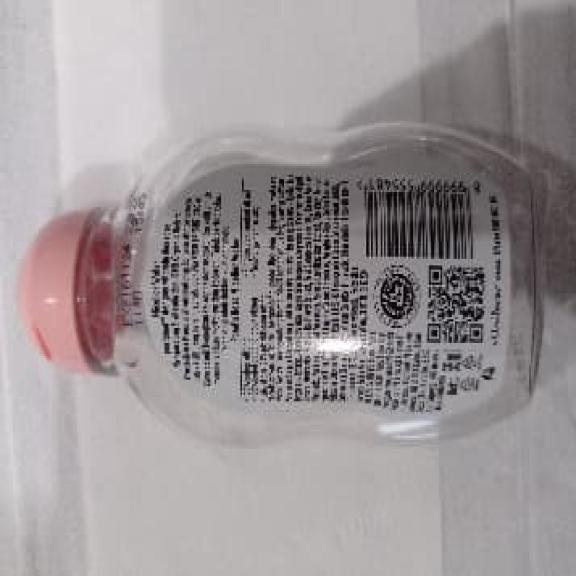Plastik: (20, 123, 542, 442)
